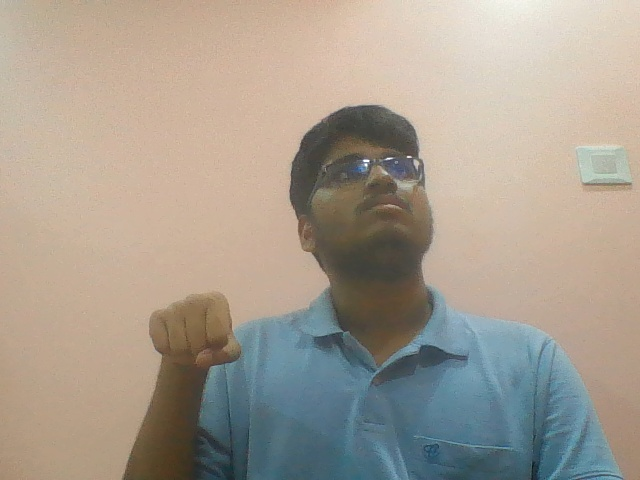yes: (145, 277, 256, 380)
